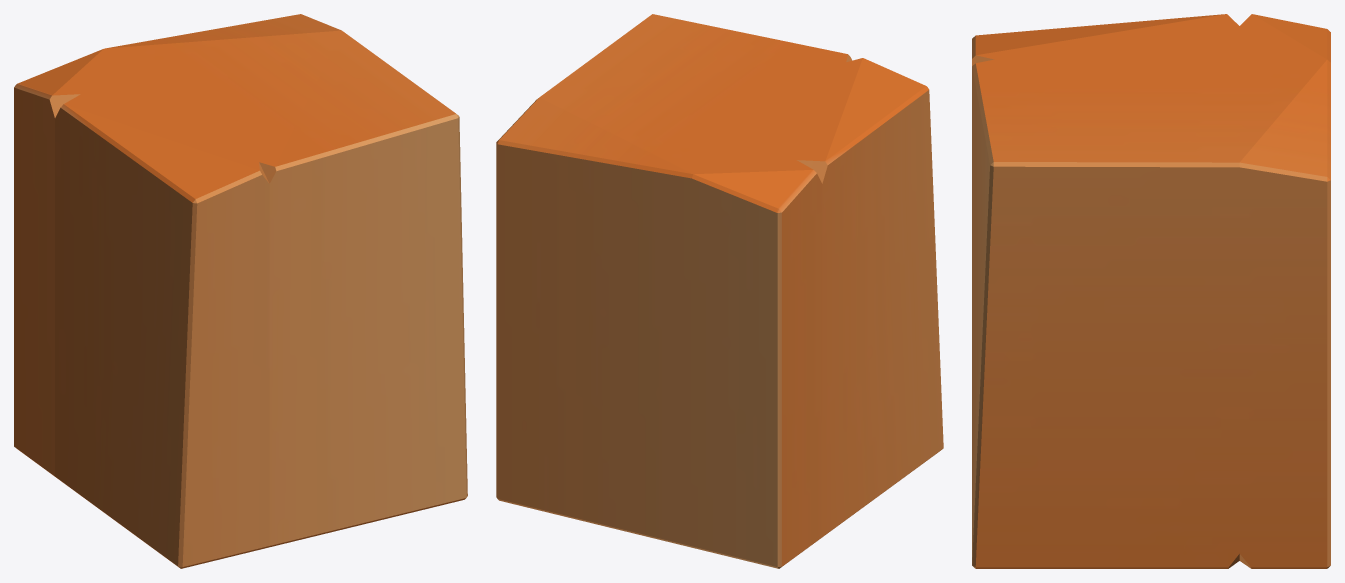
File: stone_large.gltf
The picture shows the model from 3 angles, left to right: view 1: azimuth 30°, elevation 25°; view 2: azimuth 150°, elevation 25°; view 3: azimuth 270°, elevation 25°; orthographic projection. The views are drawn at different scales.
Visible parts, largest first — view 1: Cube; view 2: Cube; view 3: Cube.
Part boxes in pixels (x1=…): Cube: x1=14, y1=14, x2=467, y2=568; Cube: x1=496, y1=14, x2=943, y2=568; Cube: x1=972, y1=14, x2=1330, y2=568.
Bounding box in the file's own units: 4 × 5.01 × 4.
Materials: 1 (1 with a texture image).
